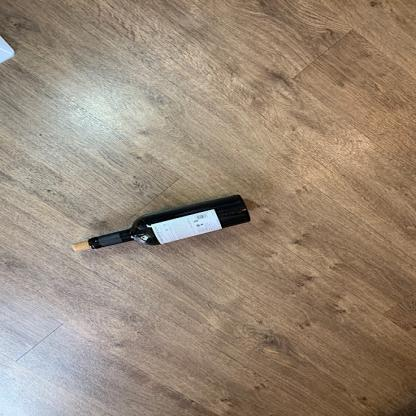trash: (88, 191, 252, 252)
